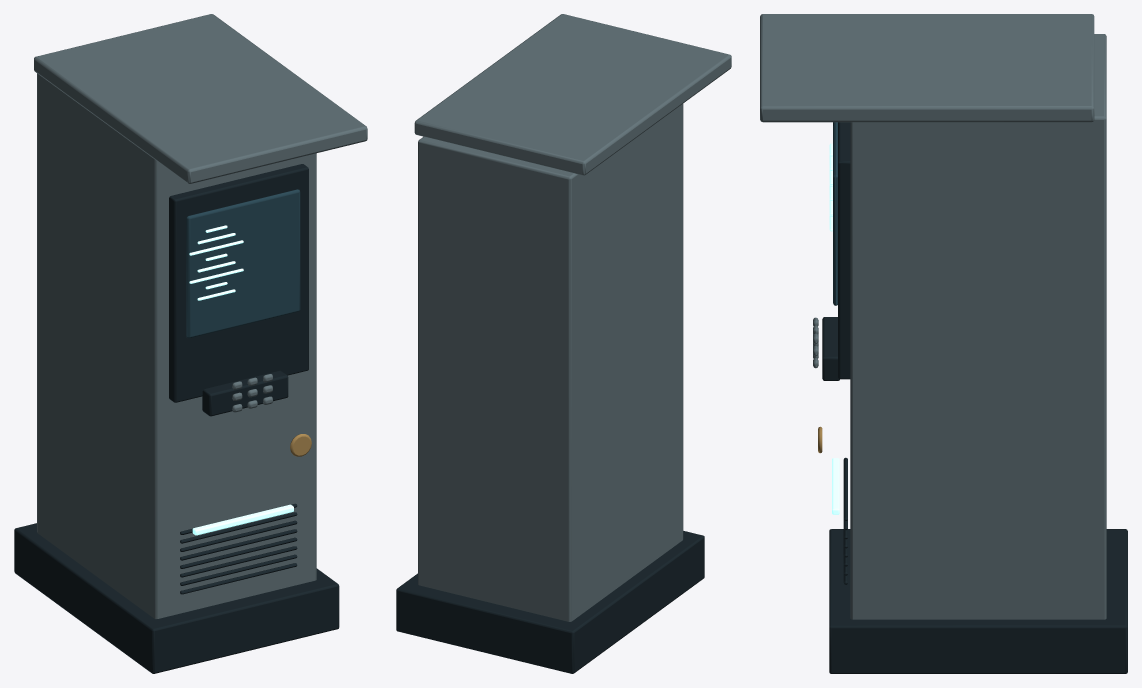
The model's file is vending_terminal.glb.
The picture shows the model from 3 angles, left to right: view 1: azimuth 30°, elevation 25°; view 2: azimuth 150°, elevation 25°; view 3: azimuth 270°, elevation 25°; orthographic projection. The views are drawn at different scales.
Visible parts, largest first — view 1: Detail.vending_terminal.Metal, Detail.vending_terminal.Dark, Detail.vending_terminal.Glass, Detail.vending_terminal.Cyan; view 2: Detail.vending_terminal.Metal, Detail.vending_terminal.Dark; view 3: Detail.vending_terminal.Metal, Detail.vending_terminal.Dark, Detail.vending_terminal.Glass, Detail.vending_terminal.Cyan.
Part boxes in pixels (x1,y1,x2,y2): Detail.vending_terminal.Metal: (34, 14, 367, 618); Detail.vending_terminal.Dark: (14, 164, 339, 673); Detail.vending_terminal.Glass: (186, 189, 300, 338); Detail.vending_terminal.Cyan: (189, 225, 293, 535); Detail.vending_terminal.Metal: (414, 14, 731, 621); Detail.vending_terminal.Dark: (396, 531, 704, 673); Detail.vending_terminal.Metal: (760, 14, 1106, 619); Detail.vending_terminal.Dark: (822, 122, 1127, 673); Detail.vending_terminal.Glass: (833, 122, 837, 305); Detail.vending_terminal.Cyan: (829, 143, 839, 514).
Bounding box in the file's own units: 1.04 × 2.8 × 1.65.
